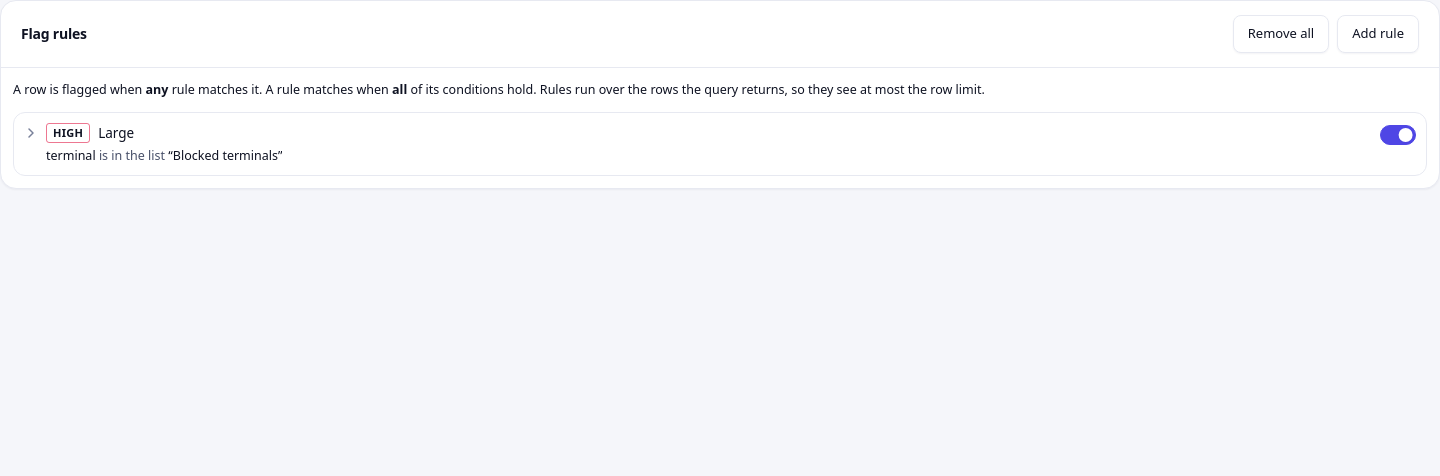
Test case: list operators › shows a list picker in place of the value input
Click the button "high Large terminal is in the list “Blocked terminals”" at (68, 133), box left=24, top=123, right=1372, bottom=164
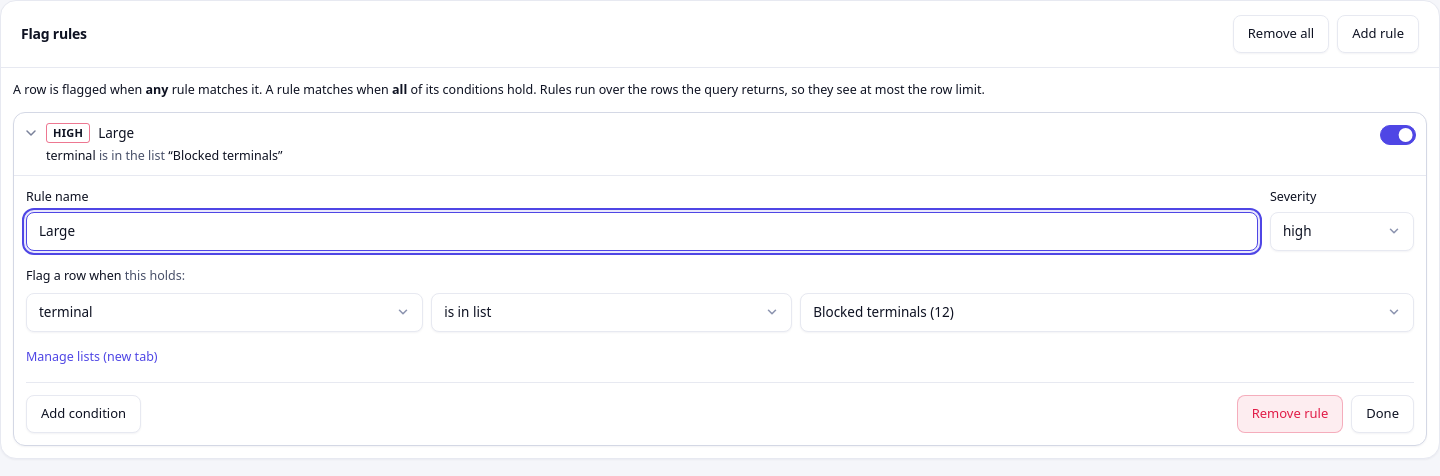
Expected: the dropdown named "List" shows "Blocked terminals (12)", left=800, top=293, right=1414, bottom=332
